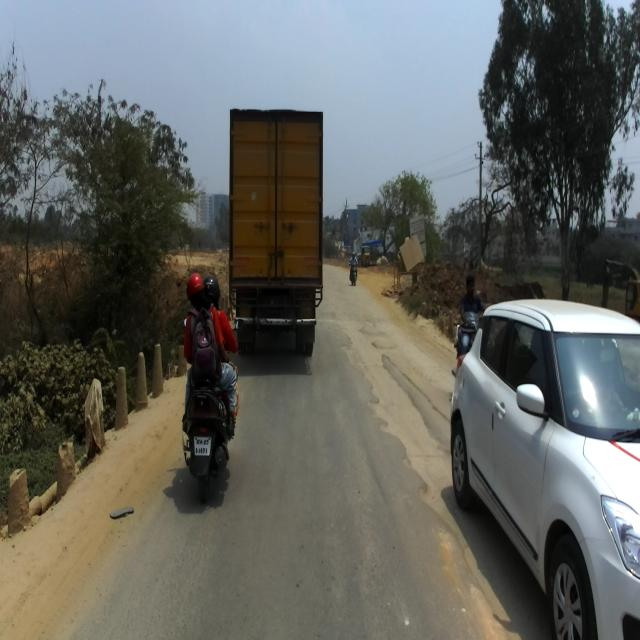car ahead at: (440, 297, 640, 640)
motorcycle ahead at: (180, 377, 242, 490)
truck ahead at: (227, 107, 325, 352)
